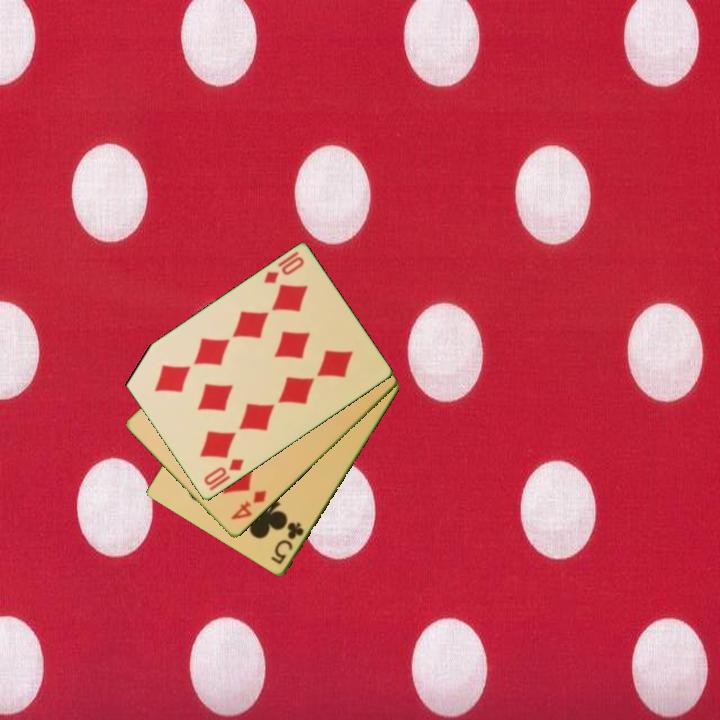10d: (200, 455, 247, 494), (260, 248, 307, 287)
4d: (227, 487, 270, 523)
5c: (267, 519, 307, 567)
